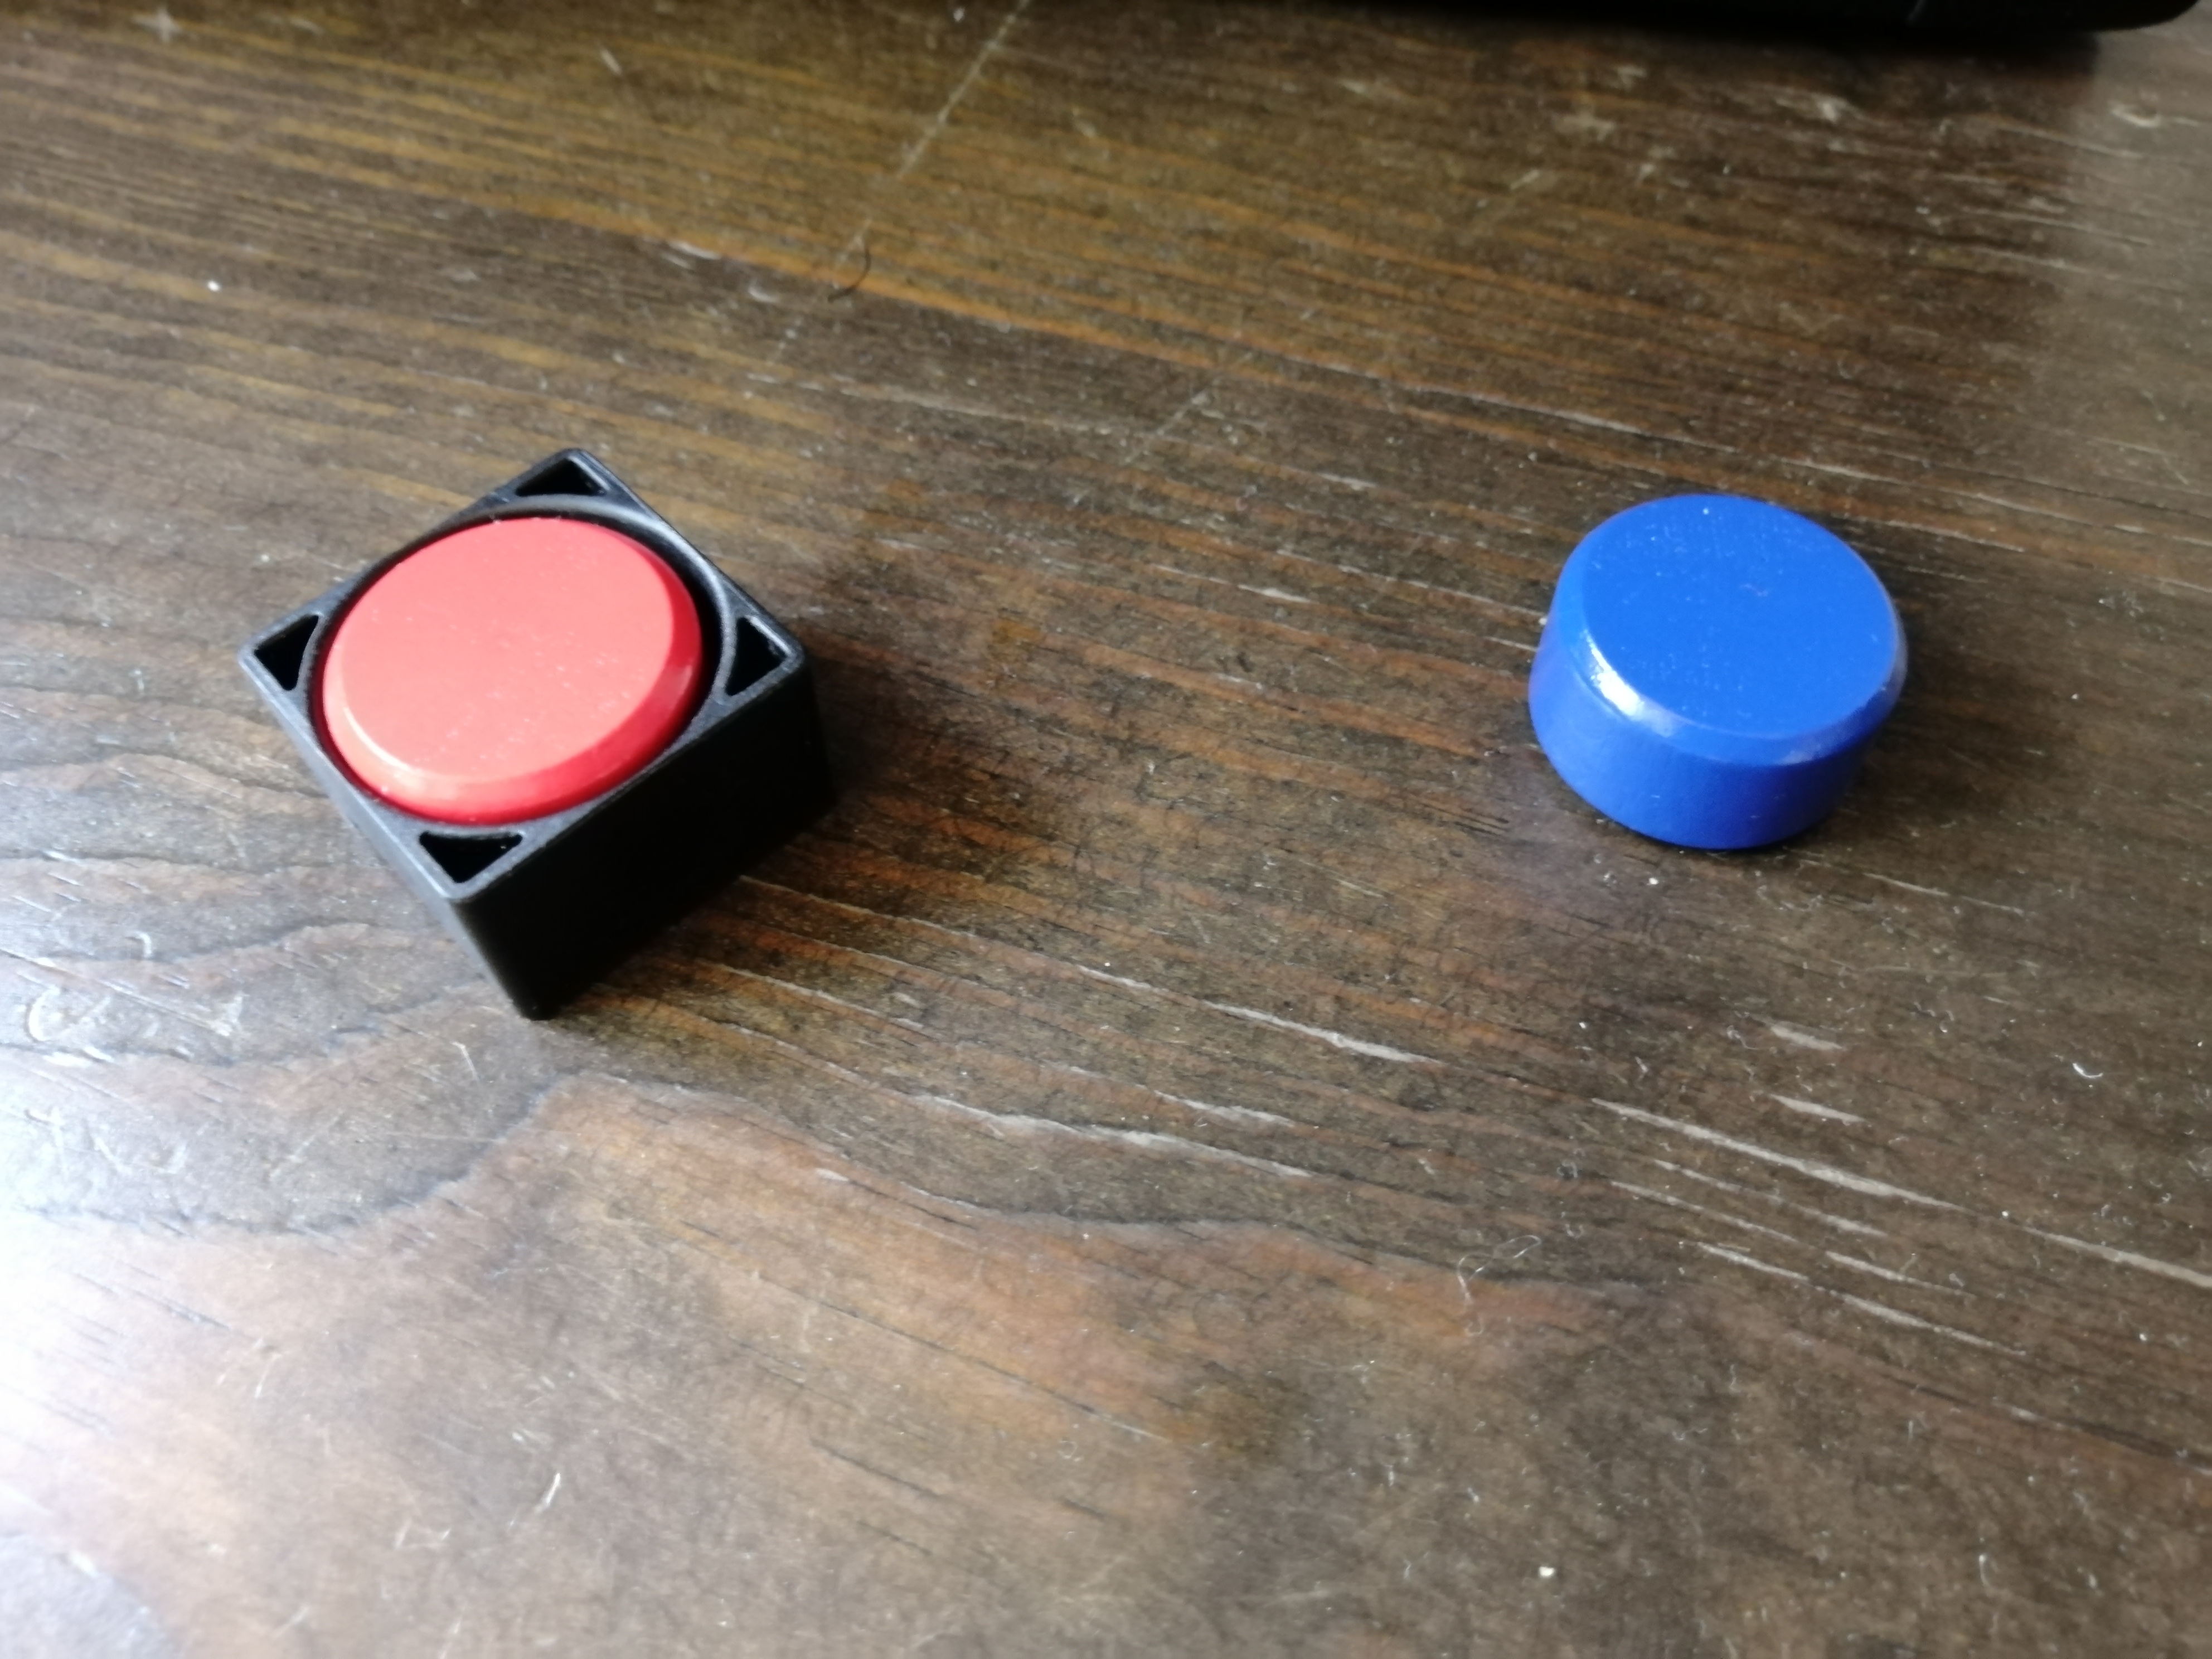Behaelter: (240, 443, 803, 1018)
WerkStueck: (1524, 498, 1900, 857), (333, 516, 697, 826)
